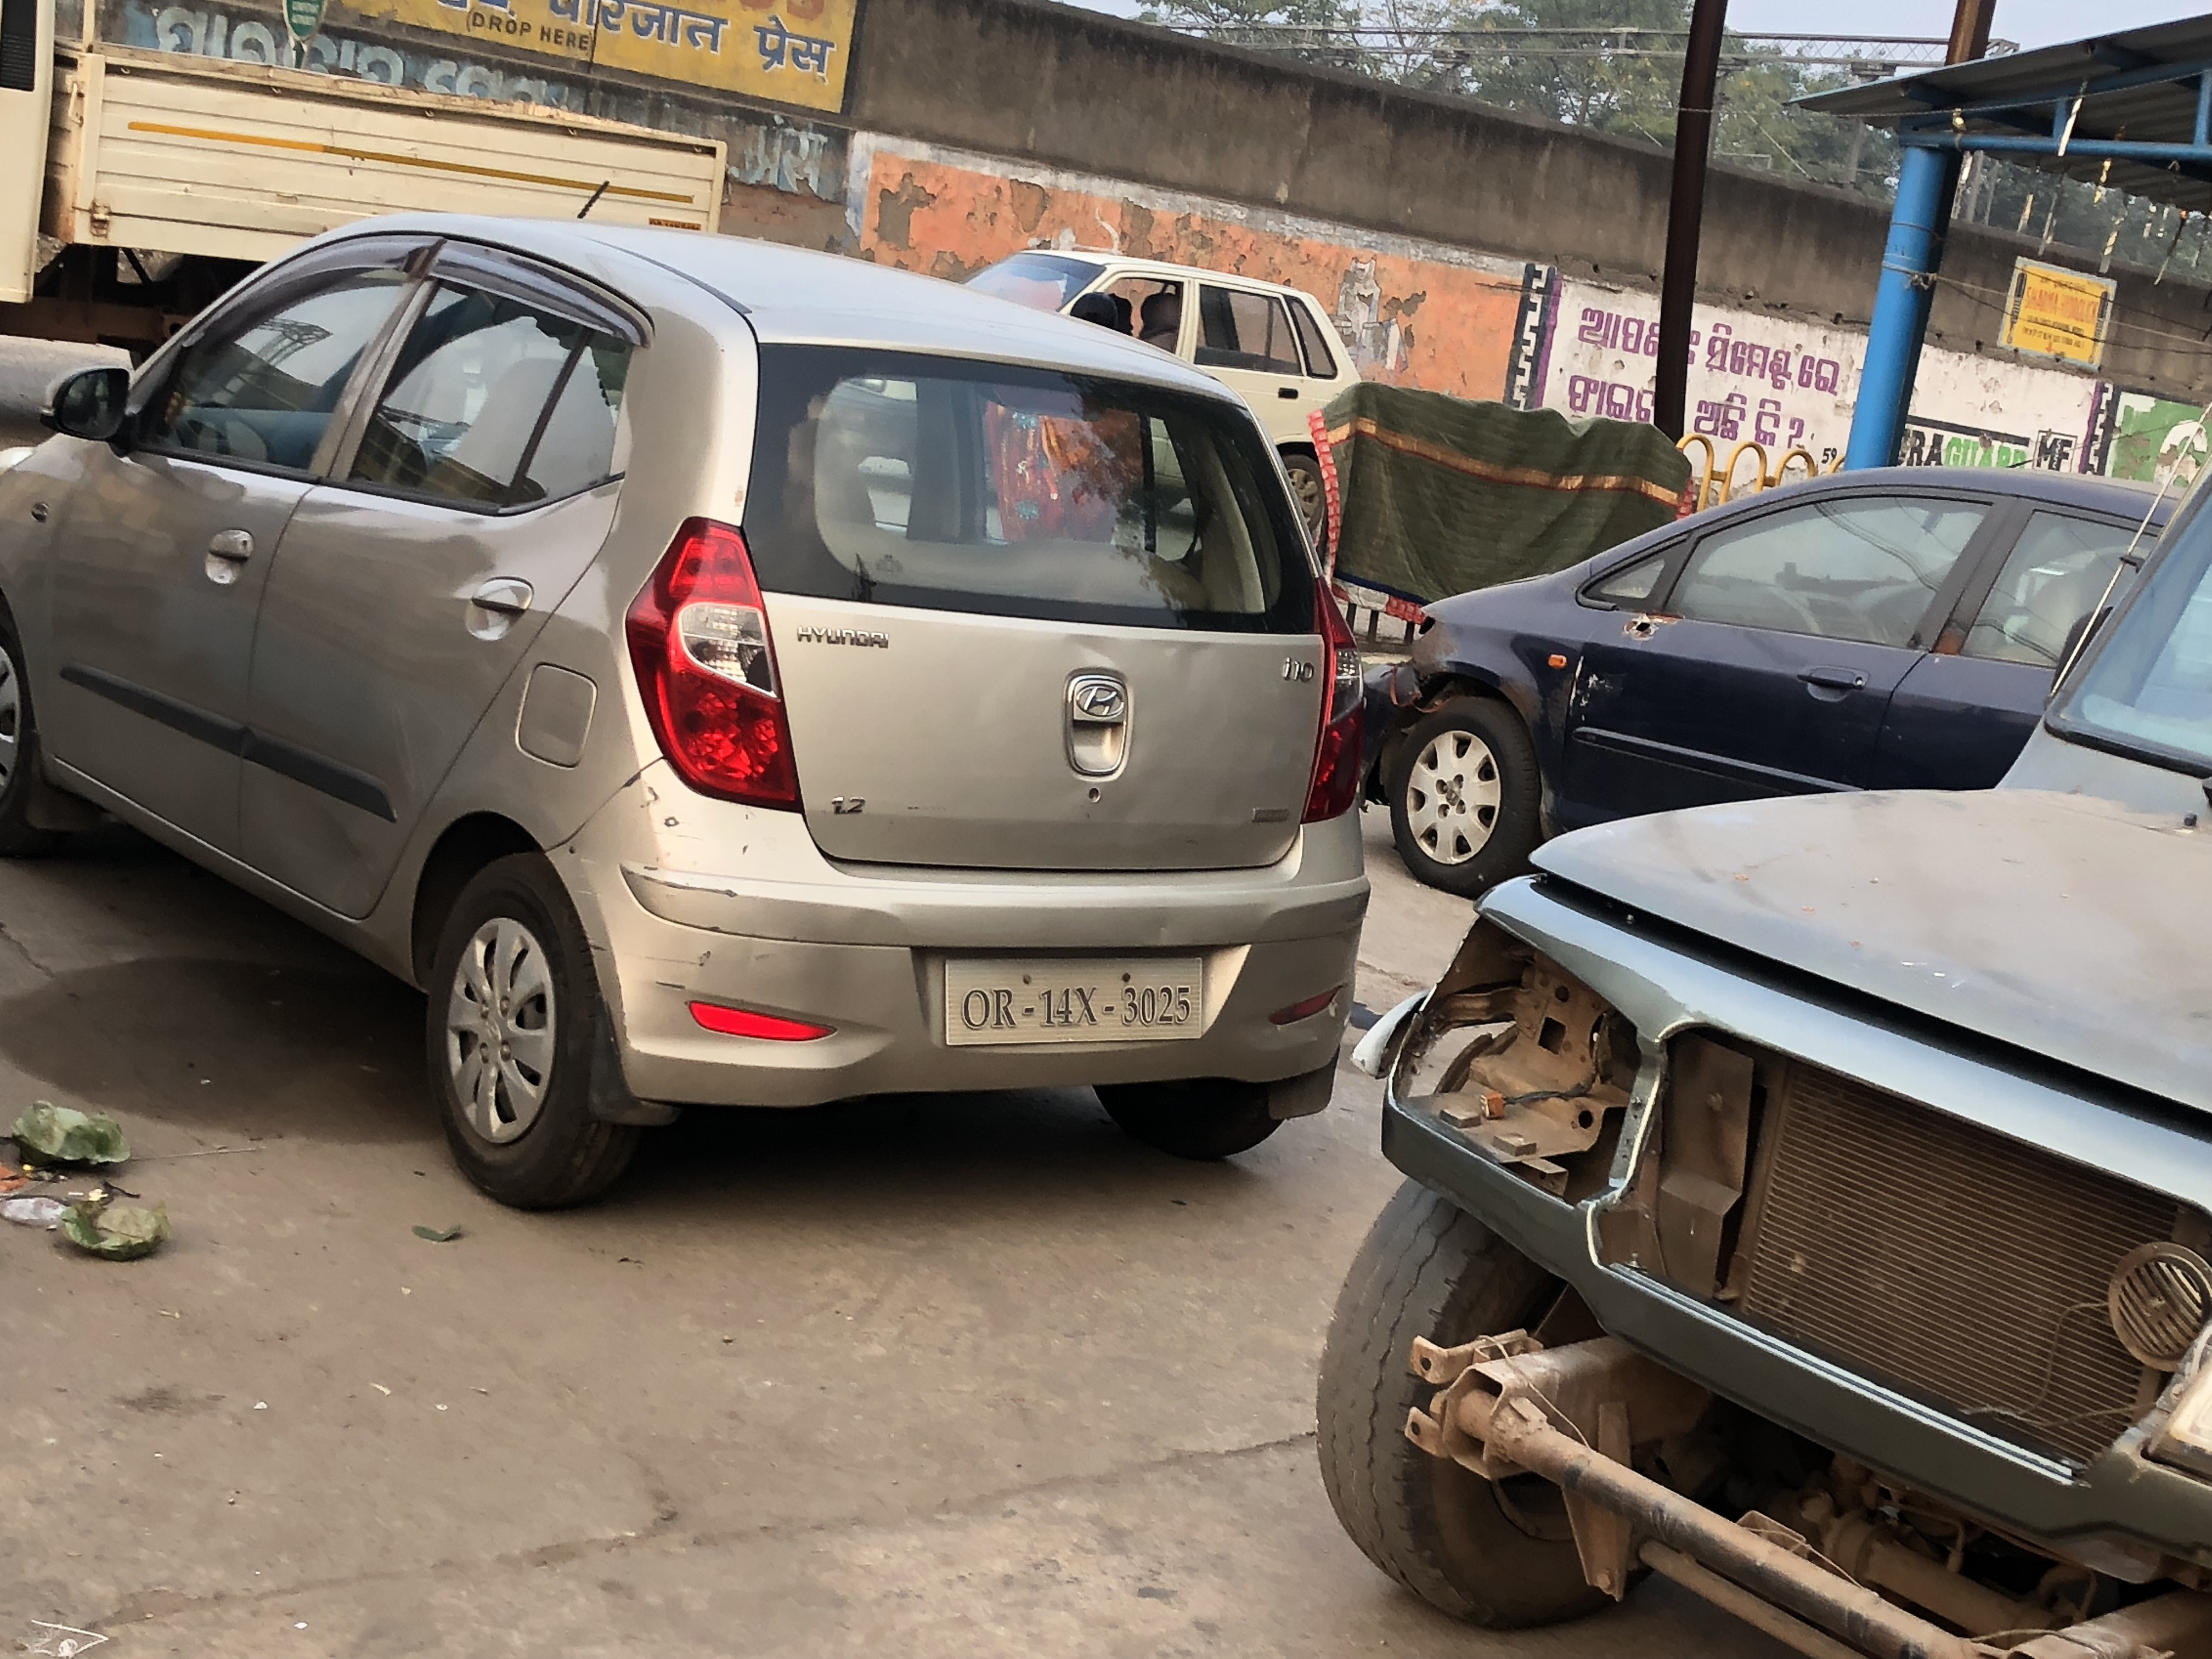licenseplate: (934, 954, 1223, 1051)
